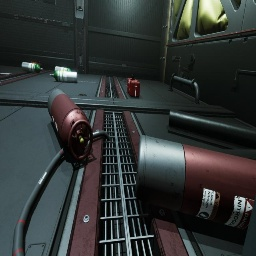0: (49, 70, 77, 83), (22, 62, 44, 73), (55, 66, 71, 72)
FireExtinguisher ]: (30, 61, 42, 68)
FirstAidBox ,: (127, 74, 140, 98)
NitrogenTank ,: (135, 135, 256, 231), (47, 89, 93, 161)
